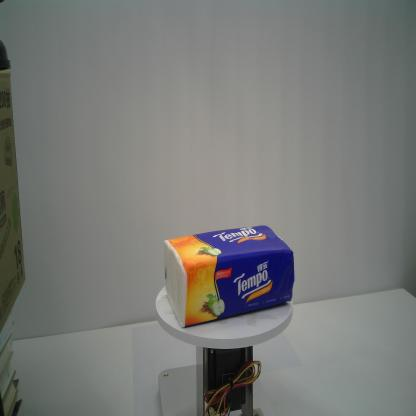Tissue: (160, 223, 296, 330)
